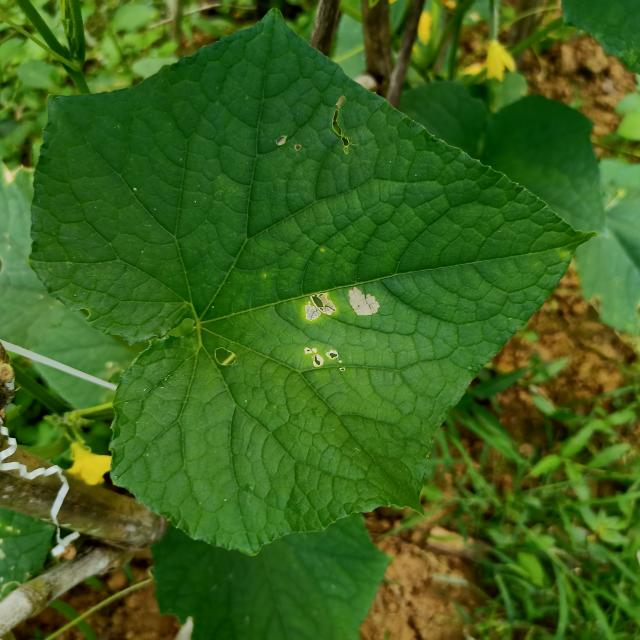disease_cucumber: (298, 282, 384, 374)
